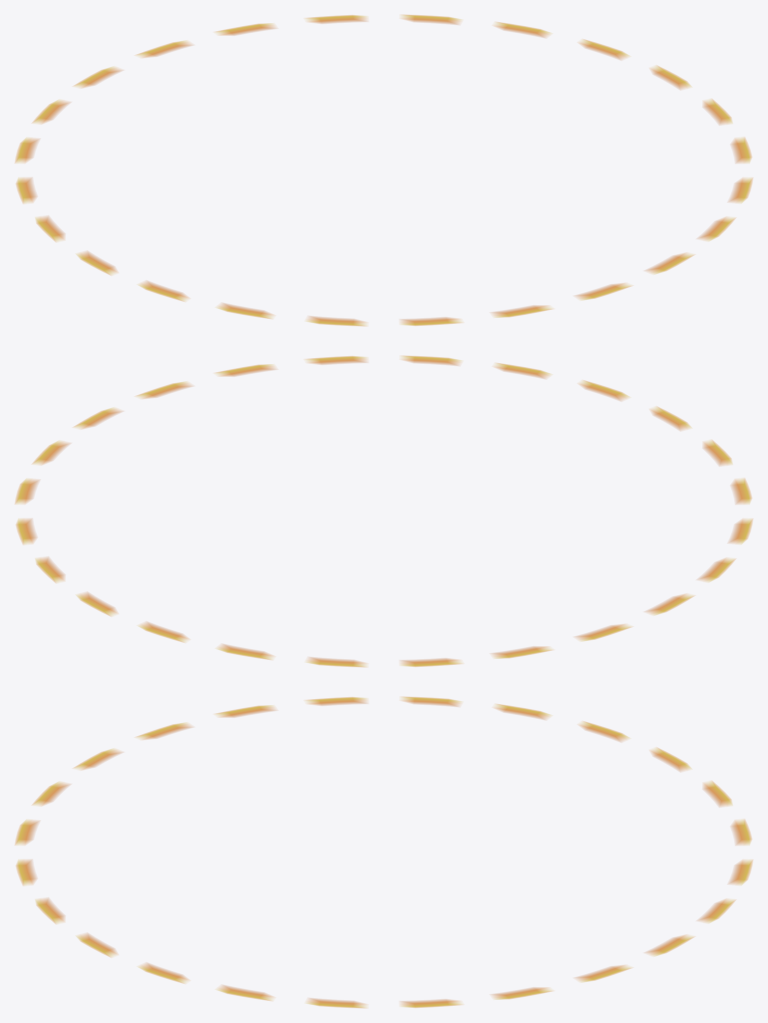
File: e5a-riveter-warning-ring.glb
3 renders of one model, top to bottom at view 1: azimuth 30°, elevation 25°; view 2: azimuth 150°, elevation 25°; view 3: azimuth 270°, elevation 25°, orthographic.
Visible parts, largest first — view 1: e5a-riveter-warning-ring; view 2: e5a-riveter-warning-ring; view 3: e5a-riveter-warning-ring.
Boxes of the visible parts, x1,y1,x2,y2 form: e5a-riveter-warning-ring: (15,15,752,325); e5a-riveter-warning-ring: (15,356,752,666); e5a-riveter-warning-ring: (15,697,752,1007).
Bounding box in the file's own units: 2 × 0 × 2.
